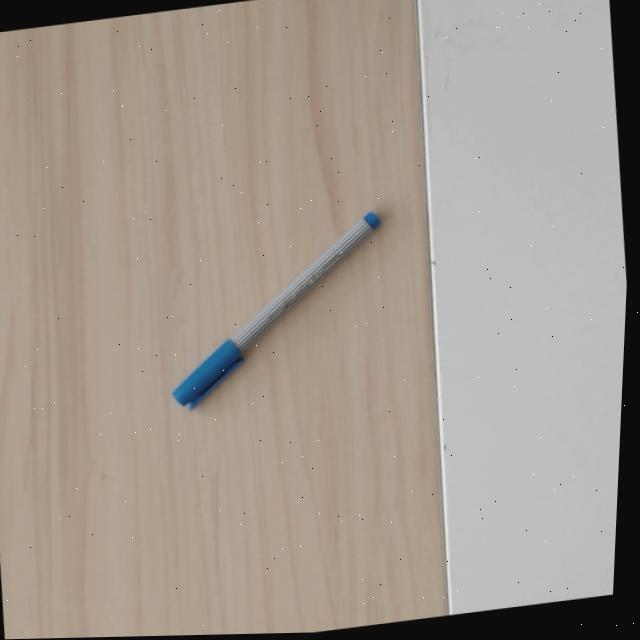Pulpen-Garis-Biru: (165, 206, 387, 415)
